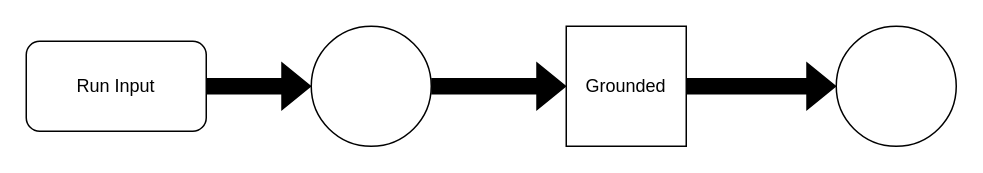
This 983x173 diagram has some shape labels left out. The shapes that lost their labels are listed below. From the top down, each one's centre as x and y in pixels, then its label:
At point (370, 85): "Idle".
At point (895, 85): "Running".
